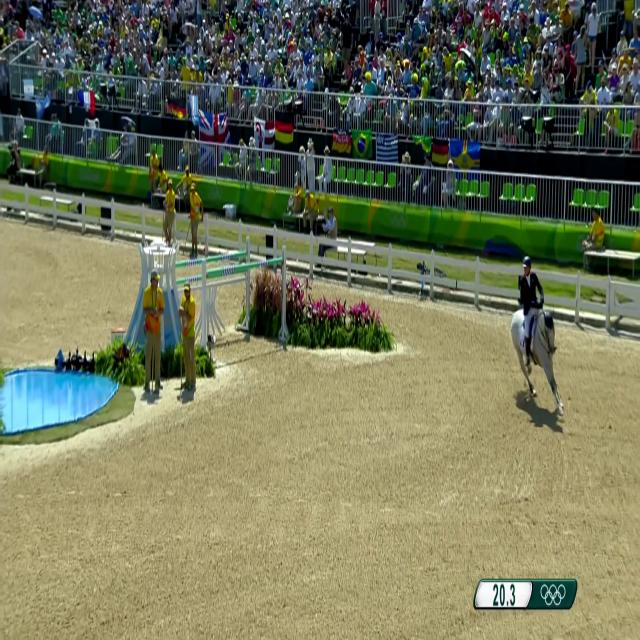Horse Rider: (506, 234, 552, 377)
Horse Running: (508, 297, 570, 432)
